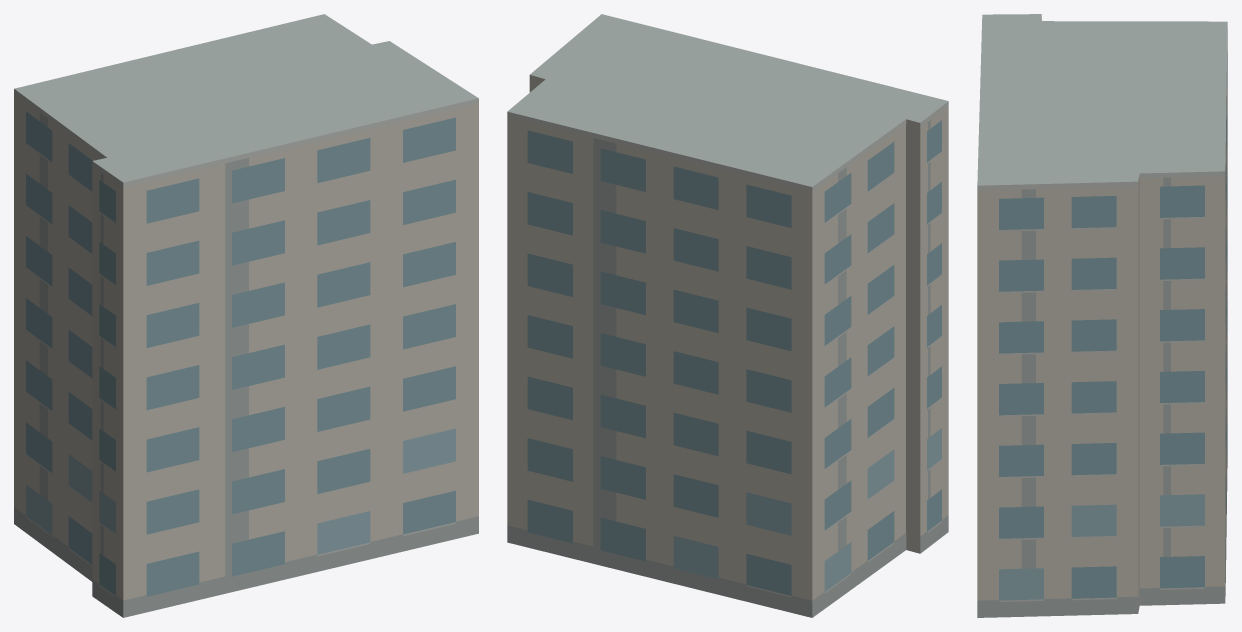
Rendered from survey-upis-32958981.glb.
3 views of the same model, side by side, from view 1: azimuth 30°, elevation 25°; view 2: azimuth 150°, elevation 25°; view 3: azimuth 270°, elevation 25° (orthographic).
Parts seen in each view (by area): view 1: survey-upis-32958981.tmp; view 2: survey-upis-32958981.tmp; view 3: survey-upis-32958981.tmp.
Boxes of the visible parts, x1=… form: survey-upis-32958981.tmp: x1=14, y1=14, x2=478, y2=617; survey-upis-32958981.tmp: x1=507, y1=14, x2=948, y2=617; survey-upis-32958981.tmp: x1=977, y1=14, x2=1227, y2=617.
Size of the model in its own units: 18.19 by 21.35 by 11.21.
